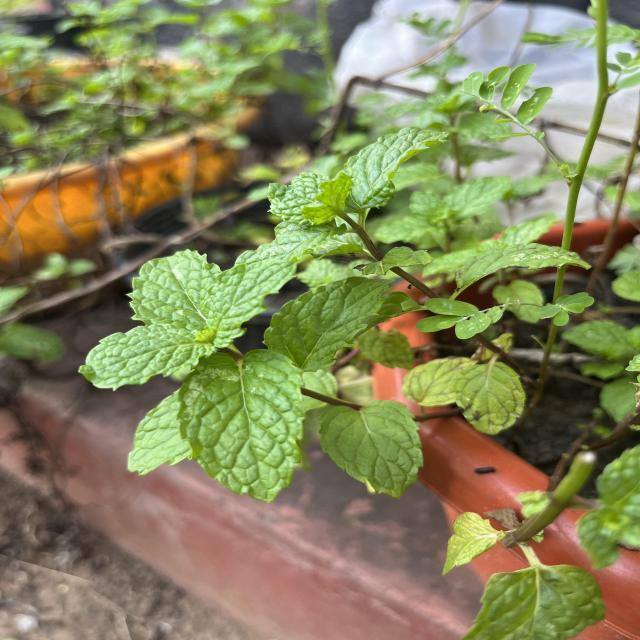Mentha spicata: (177, 348, 308, 505), (260, 276, 394, 375), (318, 400, 426, 500), (126, 248, 226, 328)
